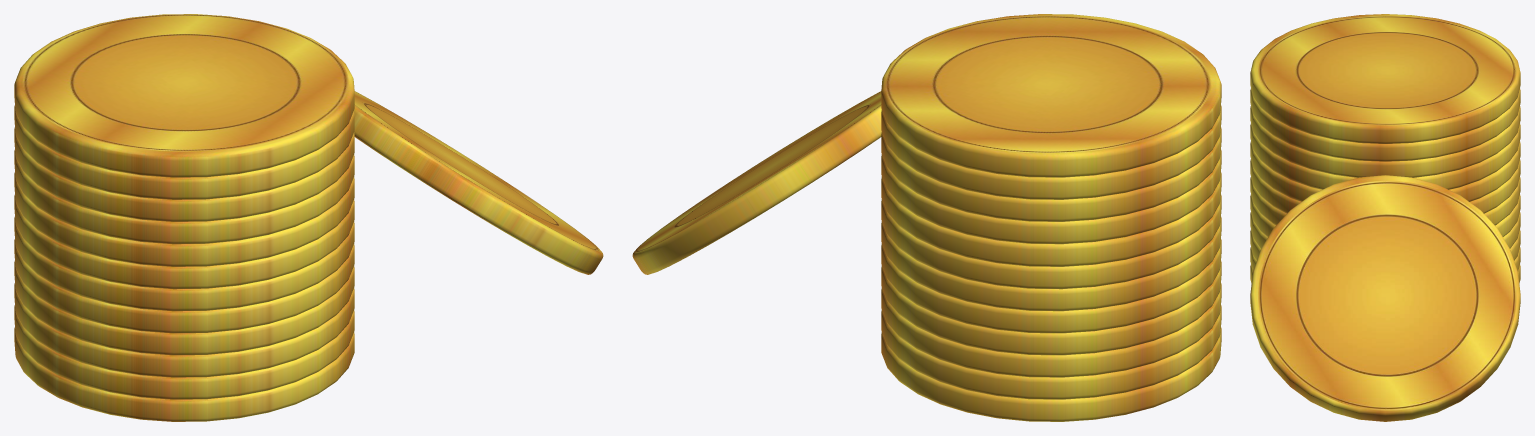
File: Coin.glb
3 views of the same model, side by side, from view 1: azimuth 30°, elevation 25°; view 2: azimuth 150°, elevation 25°; view 3: azimuth 270°, elevation 25° (orthographic). The views are drawn at different scales.
Visible parts, largest first — view 1: Cylinder.011, Cylinder.012, Cylinder.007, Cylinder, Cylinder.010, Cylinder.002, Cylinder.008, Cylinder.006, Cylinder.004, Cylinder.001, Cylinder.009, Cylinder.005 (+1 smaller); view 2: Cylinder.011, Cylinder.012, Cylinder.007, Cylinder, Cylinder.010, Cylinder.002, Cylinder.008, Cylinder.006, Cylinder.004, Cylinder.001, Cylinder.009, Cylinder.005 (+1 smaller); view 3: Cylinder.012, Cylinder.011, Cylinder.010, Cylinder.009, Cylinder.008, Cylinder.007, Cylinder.006, Cylinder.005, Cylinder.004, Cylinder.003, Cylinder.002.
Boxes of the visible parts, x1,y1,x2,y2 form: Cylinder.011: [14, 14, 354, 177]; Cylinder.012: [354, 91, 603, 274]; Cylinder.007: [14, 172, 354, 266]; Cylinder: [14, 327, 354, 421]; Cylinder.010: [14, 105, 354, 199]; Cylinder.002: [14, 283, 354, 377]; Cylinder.008: [14, 150, 354, 244]; Cylinder.006: [14, 195, 354, 289]; Cylinder.004: [14, 239, 354, 333]; Cylinder.001: [14, 305, 354, 399]; Cylinder.009: [14, 127, 354, 221]; Cylinder.005: [14, 217, 354, 311]; Cylinder.011: [881, 14, 1221, 177]; Cylinder.012: [632, 91, 881, 274]; Cylinder.007: [881, 172, 1221, 266]; Cylinder: [881, 327, 1221, 421]; Cylinder.010: [881, 105, 1221, 199]; Cylinder.002: [881, 283, 1221, 377]; Cylinder.008: [881, 150, 1221, 244]; Cylinder.006: [881, 195, 1221, 289]; Cylinder.004: [881, 239, 1221, 333]; Cylinder.001: [881, 305, 1221, 399]; Cylinder.009: [881, 127, 1221, 221]; Cylinder.005: [881, 217, 1221, 311]; Cylinder.012: [1250, 175, 1520, 421]; Cylinder.011: [1250, 14, 1520, 143]; Cylinder.010: [1250, 89, 1520, 161]; Cylinder.009: [1250, 106, 1520, 177]; Cylinder.008: [1250, 124, 1520, 189]; Cylinder.007: [1250, 141, 1520, 201]; Cylinder.006: [1250, 159, 1520, 213]; Cylinder.005: [1250, 177, 1520, 225]; Cylinder.004: [1250, 195, 1520, 236]; Cylinder.003: [1250, 212, 1520, 248]; Cylinder.002: [1250, 230, 1520, 260].
Bounding box in the file's own units: 1.84 × 0.8753 × 1.01.
Materials: 1 (1 with a texture image).
